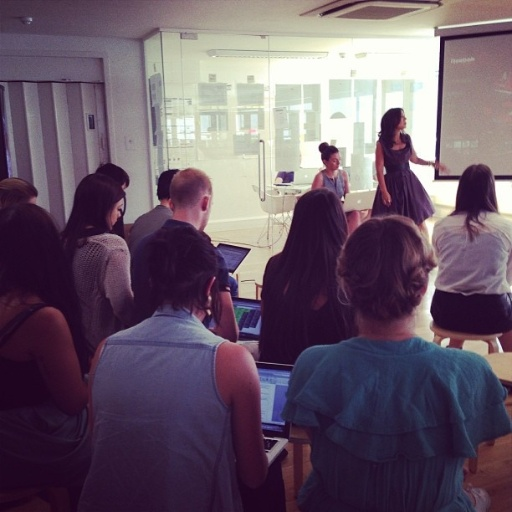hand: (379, 192, 389, 209), (430, 162, 448, 170)
